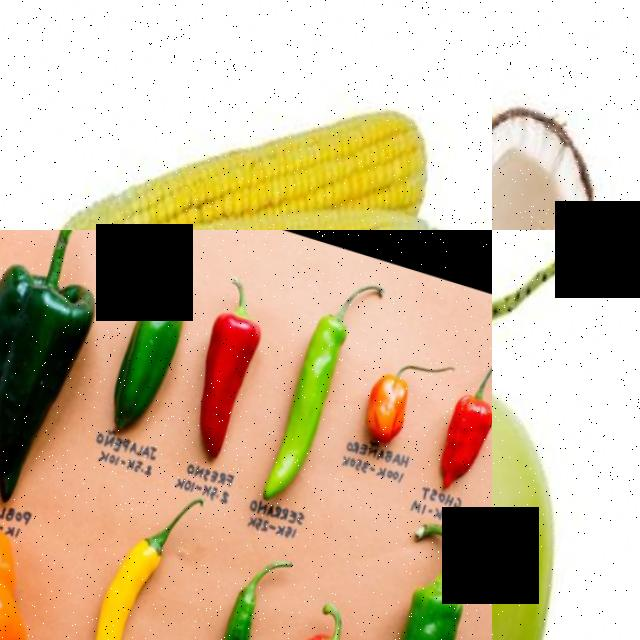chilli: (250, 287, 359, 507), (99, 261, 201, 440), (173, 288, 274, 466), (57, 515, 179, 640), (300, 557, 476, 640), (172, 560, 272, 640), (426, 373, 492, 492)
coconut: (492, 333, 612, 640), (492, 69, 574, 230)
corn: (143, 147, 455, 230), (283, 76, 443, 230), (36, 143, 190, 230), (192, 121, 296, 212)
